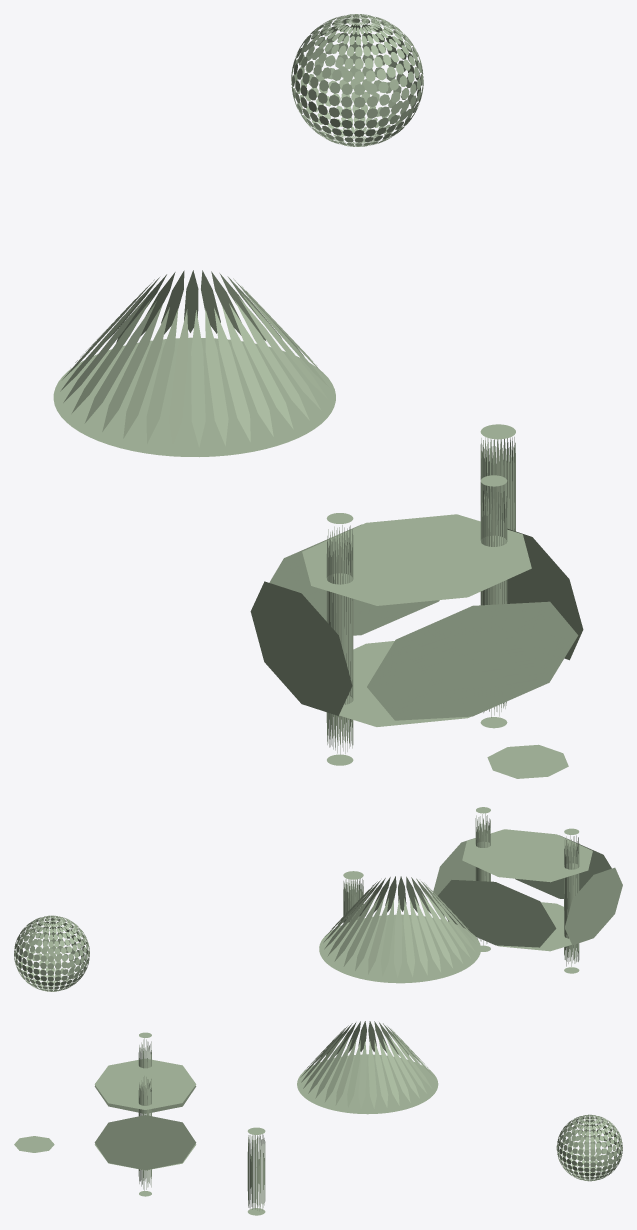
The model's file is ENV_Quietvale_PBR.glb.
The picture shows the model from 3 angles, top to bottom: view 1: azimuth 30°, elevation 25°; view 2: azimuth 150°, elevation 25°; view 3: azimuth 270°, elevation 25°; orthographic projection. The views are drawn at different scales.
Visible parts, largest first — view 1: ENV_Quietvale_House, ENV_Quietvale_Roof, ENV_Quietvale_Tree_Leaves, ENV_Quietvale_Gate_L, ENV_Quietvale_Tree_Trunk, ENV_Quietvale_Gate_R, ENV_Quietvale_Path; view 2: ENV_Quietvale_House, ENV_Quietvale_Roof, ENV_Quietvale_Tree_Leaves, ENV_Quietvale_Gate_L, ENV_Quietvale_Gate_R, ENV_Quietvale_Tree_Trunk; view 3: ENV_Quietvale_Roof, ENV_Quietvale_House, ENV_Quietvale_Tree_Leaves, ENV_Quietvale_Tree_Trunk, ENV_Quietvale_Gate_R, ENV_Quietvale_Path, ENV_Quietvale_Gate_L.
Part boxes in pixels (<box>): ENV_Quietvale_House: <box>250,514,583,726</box>; ENV_Quietvale_Roof: <box>53,270,335,457</box>; ENV_Quietvale_Tree_Leaves: <box>291,14,423,146</box>; ENV_Quietvale_Gate_L: <box>326,513,353,765</box>; ENV_Quietvale_Tree_Trunk: <box>480,424,515,531</box>; ENV_Quietvale_Gate_R: <box>480,475,507,728</box>; ENV_Quietvale_Path: <box>487,744,568,778</box>; ENV_Quietvale_House: <box>432,829,622,951</box>; ENV_Quietvale_Roof: <box>319,876,480,983</box>; ENV_Quietvale_Tree_Leaves: <box>14,915,89,991</box>; ENV_Quietvale_Gate_L: <box>564,828,579,973</box>; ENV_Quietvale_Gate_R: <box>475,807,490,951</box>; ENV_Quietvale_Tree_Trunk: <box>343,871,363,923</box>; ENV_Quietvale_Roof: <box>297,1021,438,1114</box>; ENV_Quietvale_House: <box>94,1059,196,1170</box>; ENV_Quietvale_Tree_Leaves: <box>556,1114,622,1181</box>; ENV_Quietvale_Tree_Trunk: <box>247,1127,265,1215</box>; ENV_Quietvale_Gate_R: <box>138,1070,151,1196</box>; ENV_Quietvale_Path: <box>14,1136,54,1152</box>; ENV_Quietvale_Gate_L: <box>138,1032,151,1068</box>.
Bounding box in the file's own units: 14.67 × 7.49 × 27.41.
